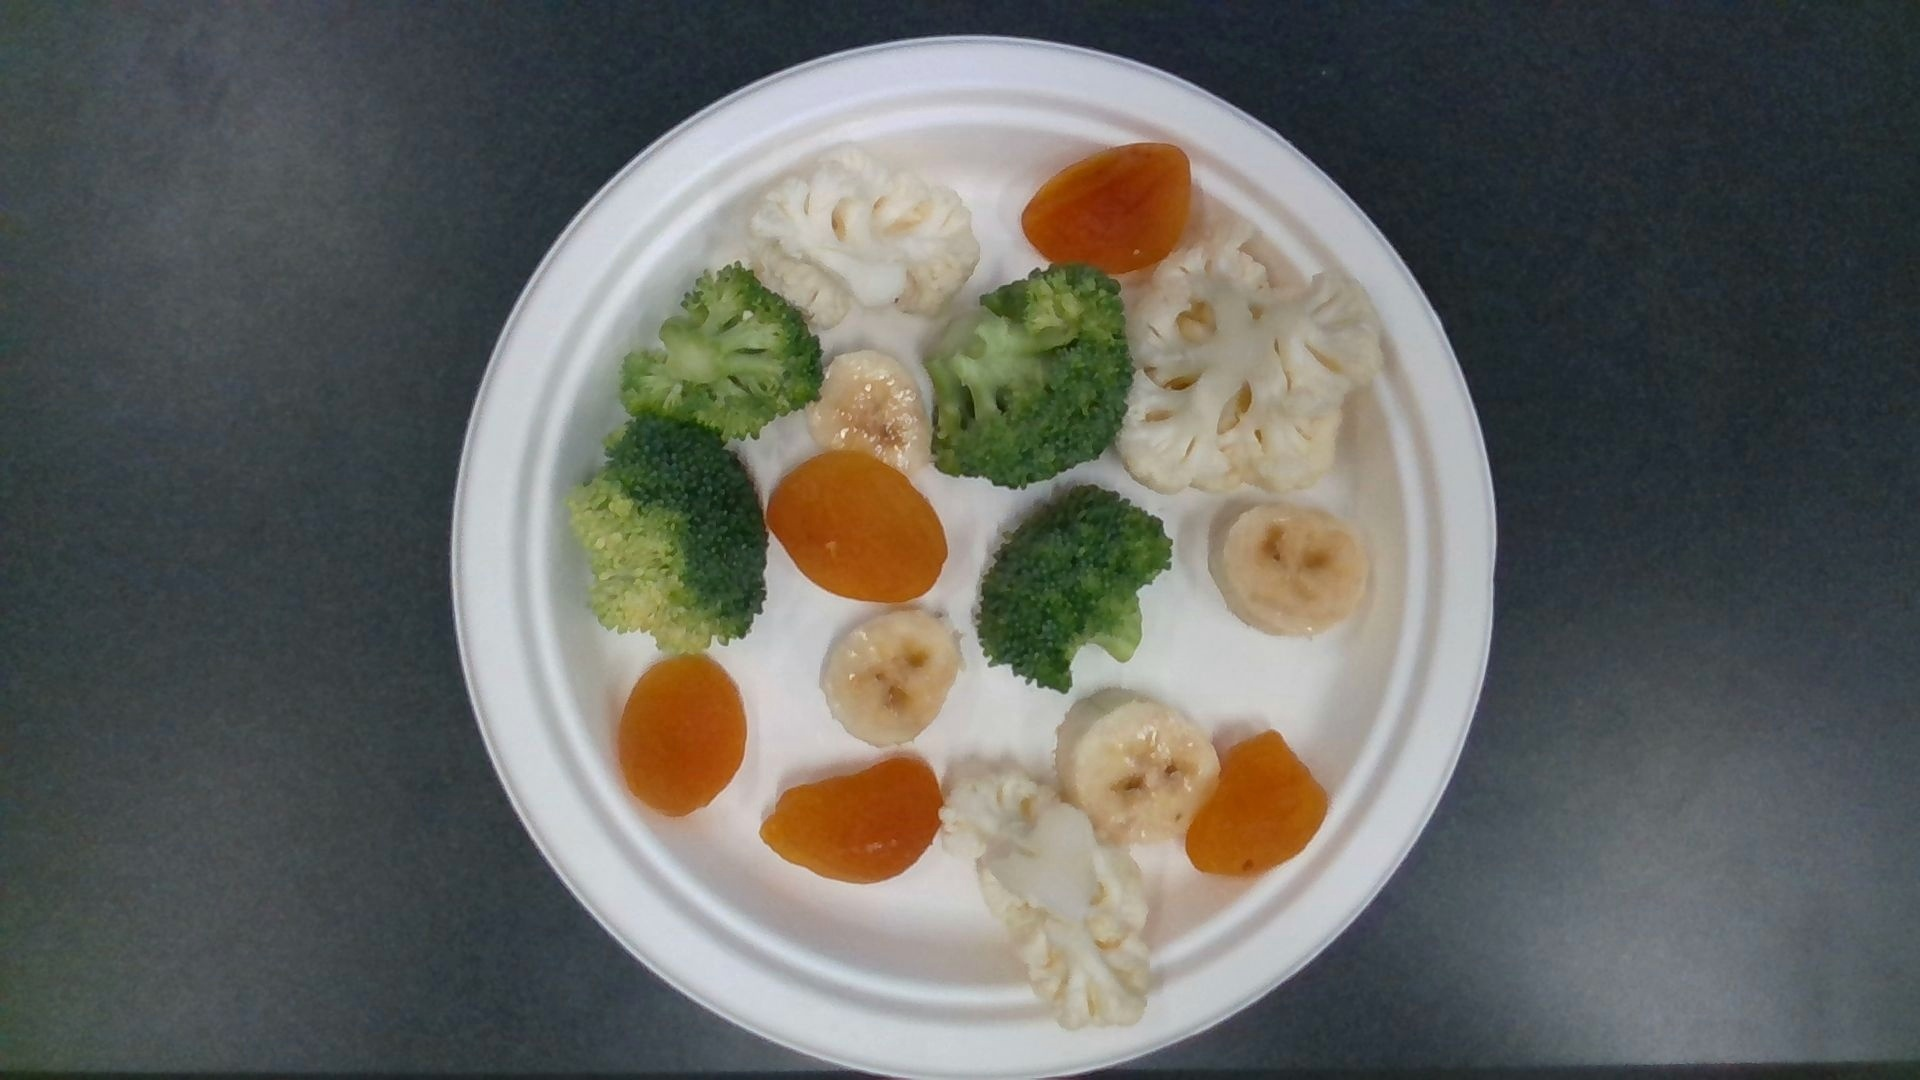apricot: (767, 455, 945, 603), (762, 752, 945, 880), (1022, 145, 1189, 272), (1189, 733, 1331, 876), (624, 655, 744, 814)
banana: (1055, 695, 1218, 848), (1211, 506, 1367, 636), (824, 611, 953, 745), (808, 351, 927, 471)
broccoli: (568, 421, 767, 650), (924, 270, 1130, 480), (978, 485, 1168, 691), (622, 266, 824, 435)
cauliflower: (1117, 225, 1385, 488), (939, 761, 1153, 1031), (745, 148, 978, 320)
